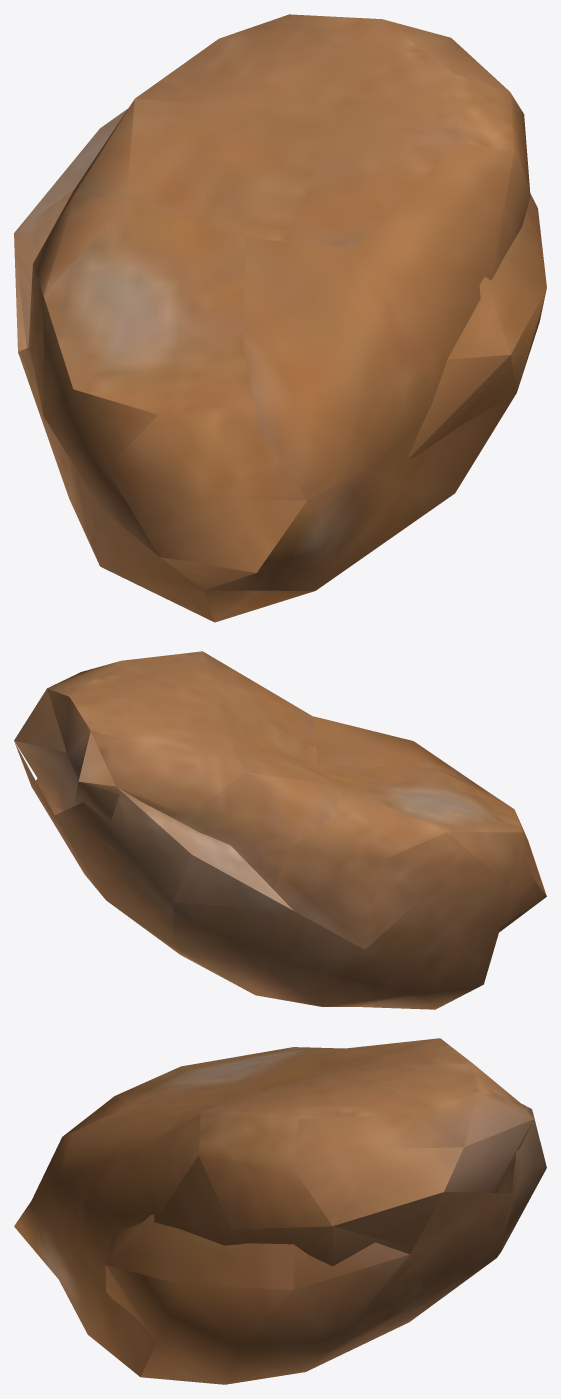
File: terron_3.glb
3 renders of one model, top to bottom at view 1: azimuth 30°, elevation 25°; view 2: azimuth 150°, elevation 25°; view 3: azimuth 270°, elevation 25°, orthographic. The views are drawn at different scales.
Visible parts, largest first — view 1: terron_3_malla; view 2: terron_3_malla; view 3: terron_3_malla.
Part boxes in pixels (left/top/right/bottom): terron_3_malla: left=14, top=14, right=546, bottom=622; terron_3_malla: left=14, top=651, right=546, bottom=1009; terron_3_malla: left=14, top=1038, right=546, bottom=1384.
Bounding box in the file's own units: 0.1654 × 0.1184 × 0.159.
1 material, 1 textured.
